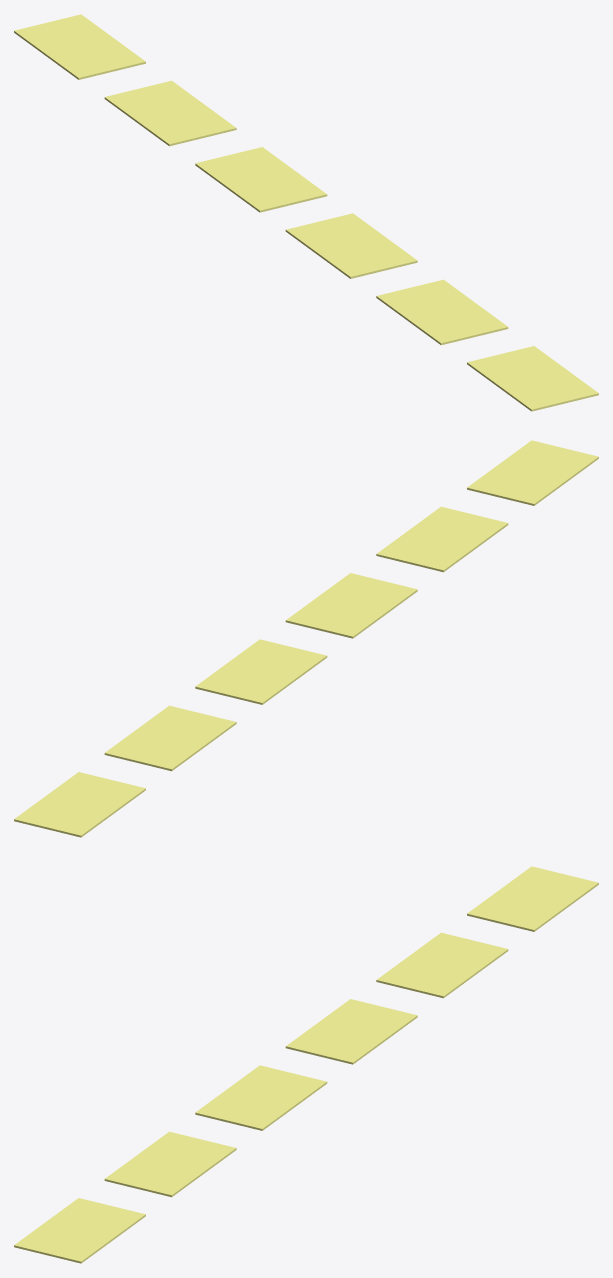
File: marking_curb_yellow_segment.glb
3 renders of one model, top to bottom at view 1: azimuth 30°, elevation 25°; view 2: azimuth 150°, elevation 25°; view 3: azimuth 330°, elevation 25°, orthographic.
Parts seen in each view (by area): view 1: curb_yellow_2, curb_yellow_3, curb_yellow_0, curb_yellow_5, curb_yellow_1, curb_yellow_4; view 2: curb_yellow_2, curb_yellow_3, curb_yellow_0, curb_yellow_5, curb_yellow_1, curb_yellow_4; view 3: curb_yellow_2, curb_yellow_3, curb_yellow_0, curb_yellow_5, curb_yellow_1, curb_yellow_4.
Part boxes in pixels (x1=…): curb_yellow_2: x1=195, y1=147, x2=327, y2=212; curb_yellow_3: x1=285, y1=213, x2=417, y2=278; curb_yellow_0: x1=14, y1=14, x2=145, y2=79; curb_yellow_5: x1=467, y1=346, x2=598, y2=411; curb_yellow_1: x1=104, y1=80, x2=236, y2=146; curb_yellow_4: x1=376, y1=279, x2=508, y2=345; curb_yellow_2: x1=195, y1=639, x2=327, y2=704; curb_yellow_3: x1=285, y1=573, x2=417, y2=638; curb_yellow_0: x1=14, y1=772, x2=145, y2=837; curb_yellow_5: x1=467, y1=440, x2=598, y2=505; curb_yellow_1: x1=104, y1=705, x2=236, y2=771; curb_yellow_4: x1=376, y1=506, x2=508, y2=572; curb_yellow_2: x1=285, y1=999, x2=417, y2=1064; curb_yellow_3: x1=195, y1=1065, x2=327, y2=1130; curb_yellow_0: x1=467, y1=866, x2=598, y2=931; curb_yellow_5: x1=14, y1=1198, x2=145, y2=1263; curb_yellow_1: x1=376, y1=932, x2=508, y2=998; curb_yellow_4: x1=104, y1=1131, x2=236, y2=1197.
Bounding box in the file's own units: 0.18 × 0.005 × 2.4.
